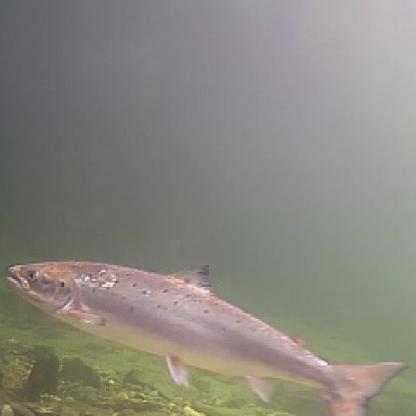salmon: (2, 253, 409, 414)
